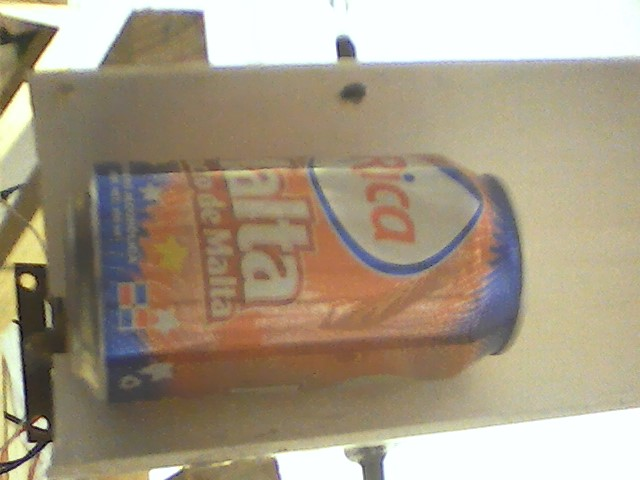lata: (63, 148, 532, 409)
